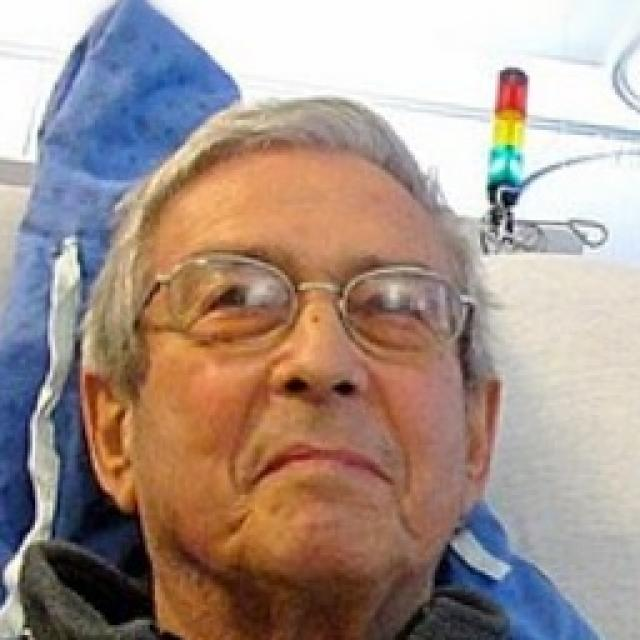glasses: (123, 255, 487, 358)
